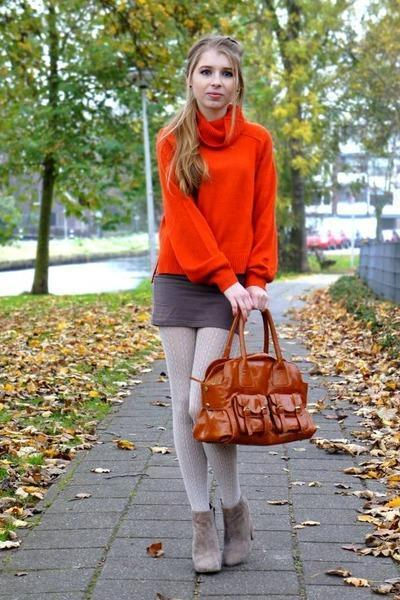bag: (193, 304, 316, 445)
pants: (156, 327, 242, 512)
shirt: (155, 103, 277, 310)
shoe: (191, 502, 246, 569)
skirt: (151, 271, 236, 347)
